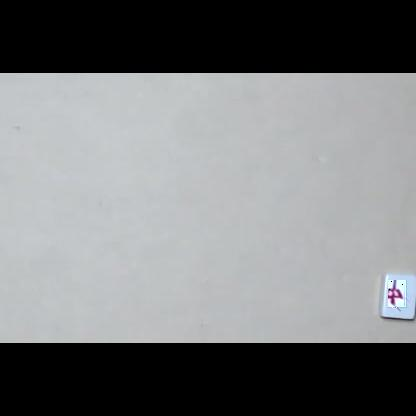7z: (389, 281, 410, 311)
